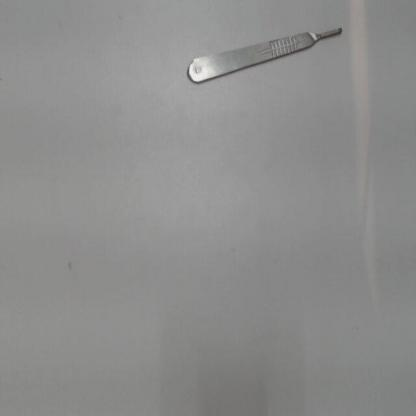No.3 BP Handle: (180, 20, 346, 89)
